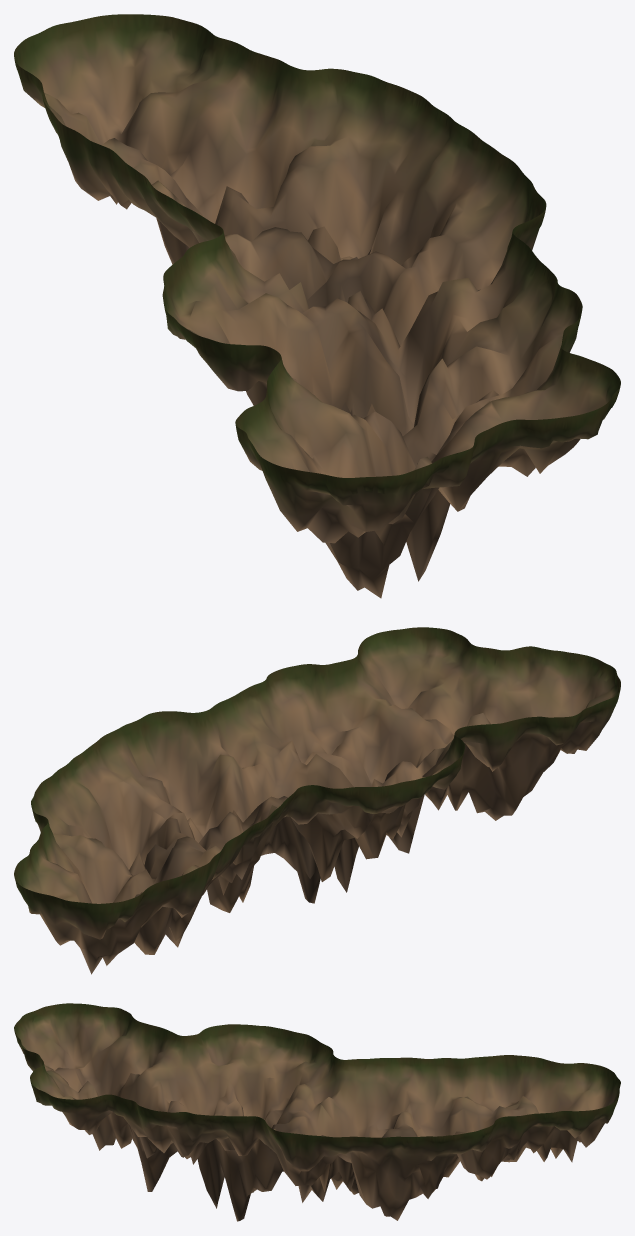
File: SM_H02_IslandRock.fbx
3 renders of one model, top to bottom at view 1: azimuth 30°, elevation 25°; view 2: azimuth 150°, elevation 25°; view 3: azimuth 270°, elevation 25°, orthographic. The views are drawn at different scales.
Visible parts, largest first — view 1: SM_H02_IslandRock; view 2: SM_H02_IslandRock; view 3: SM_H02_IslandRock.
Part boxes in pixels (box(x1,y1,x2,y2)): SM_H02_IslandRock: box(14, 14, 620, 598); SM_H02_IslandRock: box(14, 627, 620, 974); SM_H02_IslandRock: box(14, 1003, 620, 1221).
Bounding box in the file's own units: 170 × 84.8 × 326.
